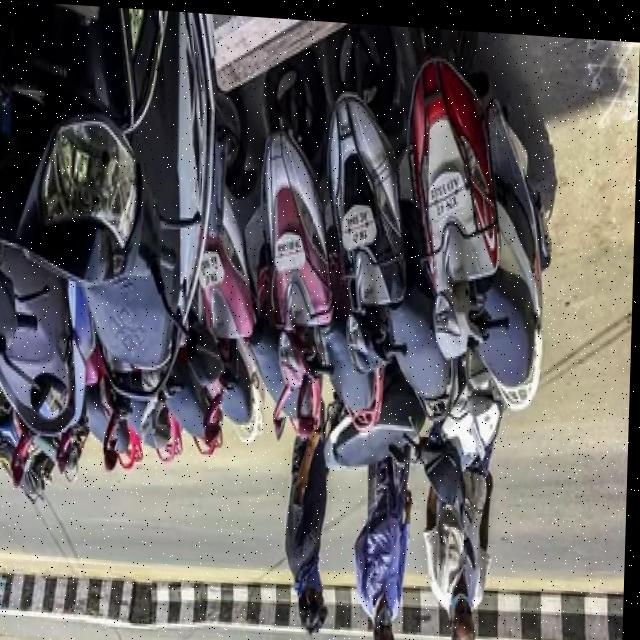plate: (427, 160, 471, 221), (339, 197, 378, 249), (273, 229, 308, 272), (199, 248, 227, 291)
